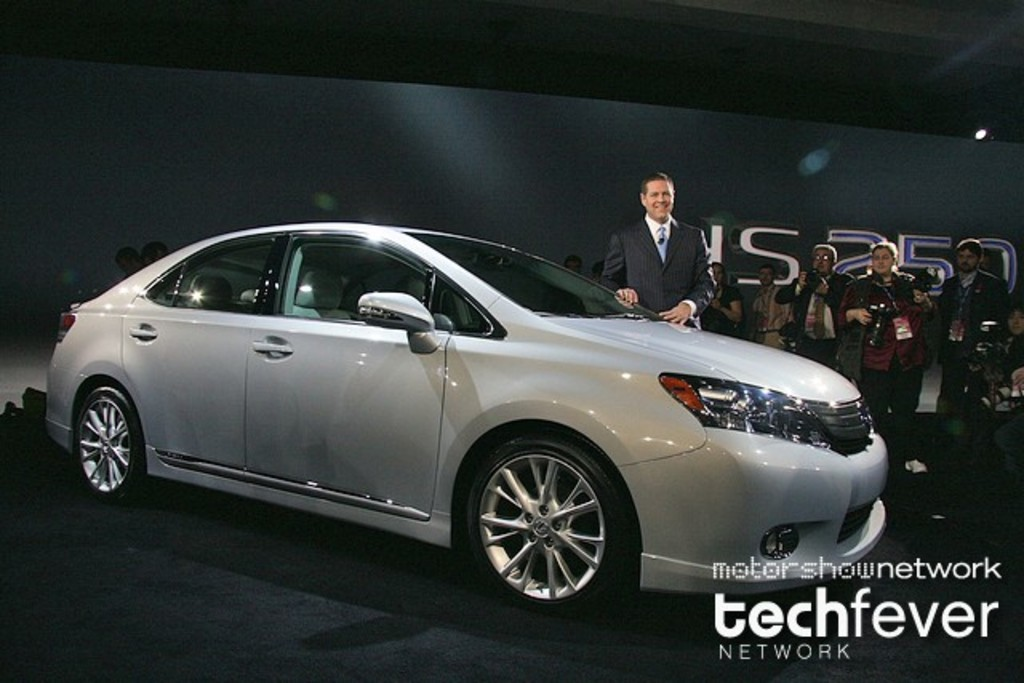Car: (44, 220, 890, 615)
